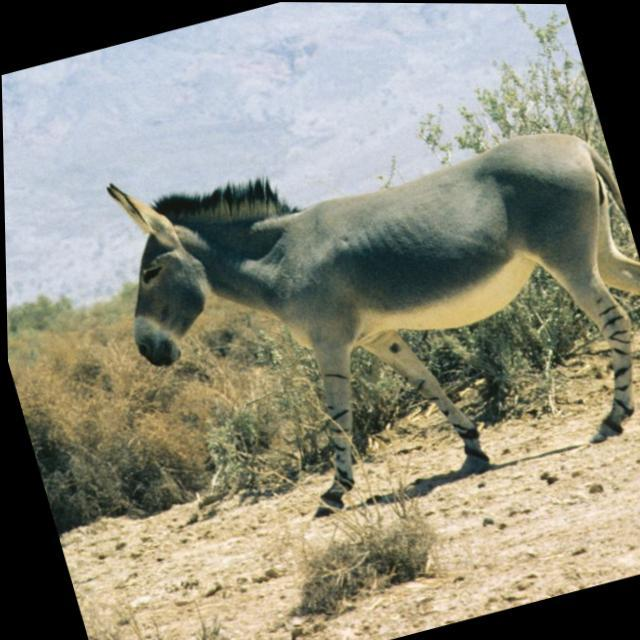Donkey: (53, 32, 640, 490)
